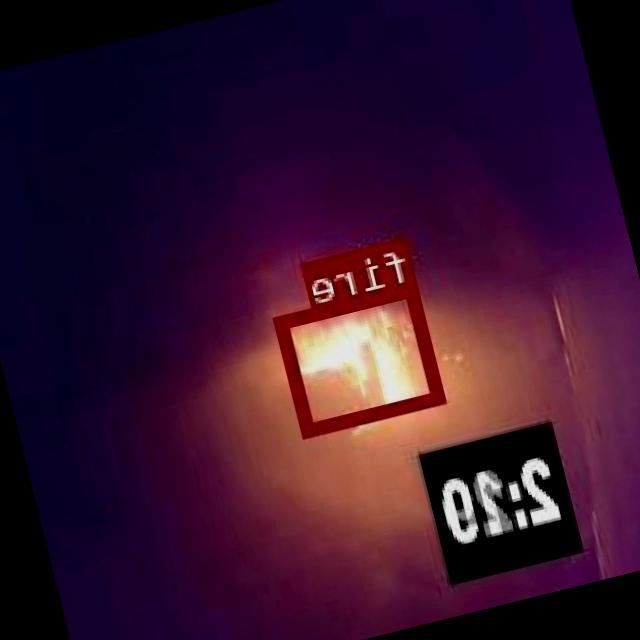fire: (274, 278, 448, 434)
